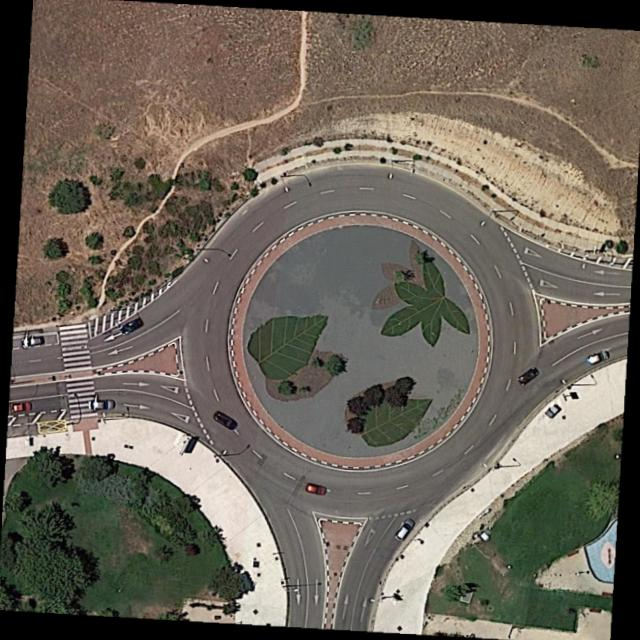small-vehicle: (392, 516, 416, 542), (211, 410, 237, 431), (118, 316, 144, 336), (516, 366, 537, 385), (585, 352, 607, 366), (7, 402, 30, 414), (304, 484, 325, 496), (89, 399, 114, 409), (20, 336, 40, 347)
